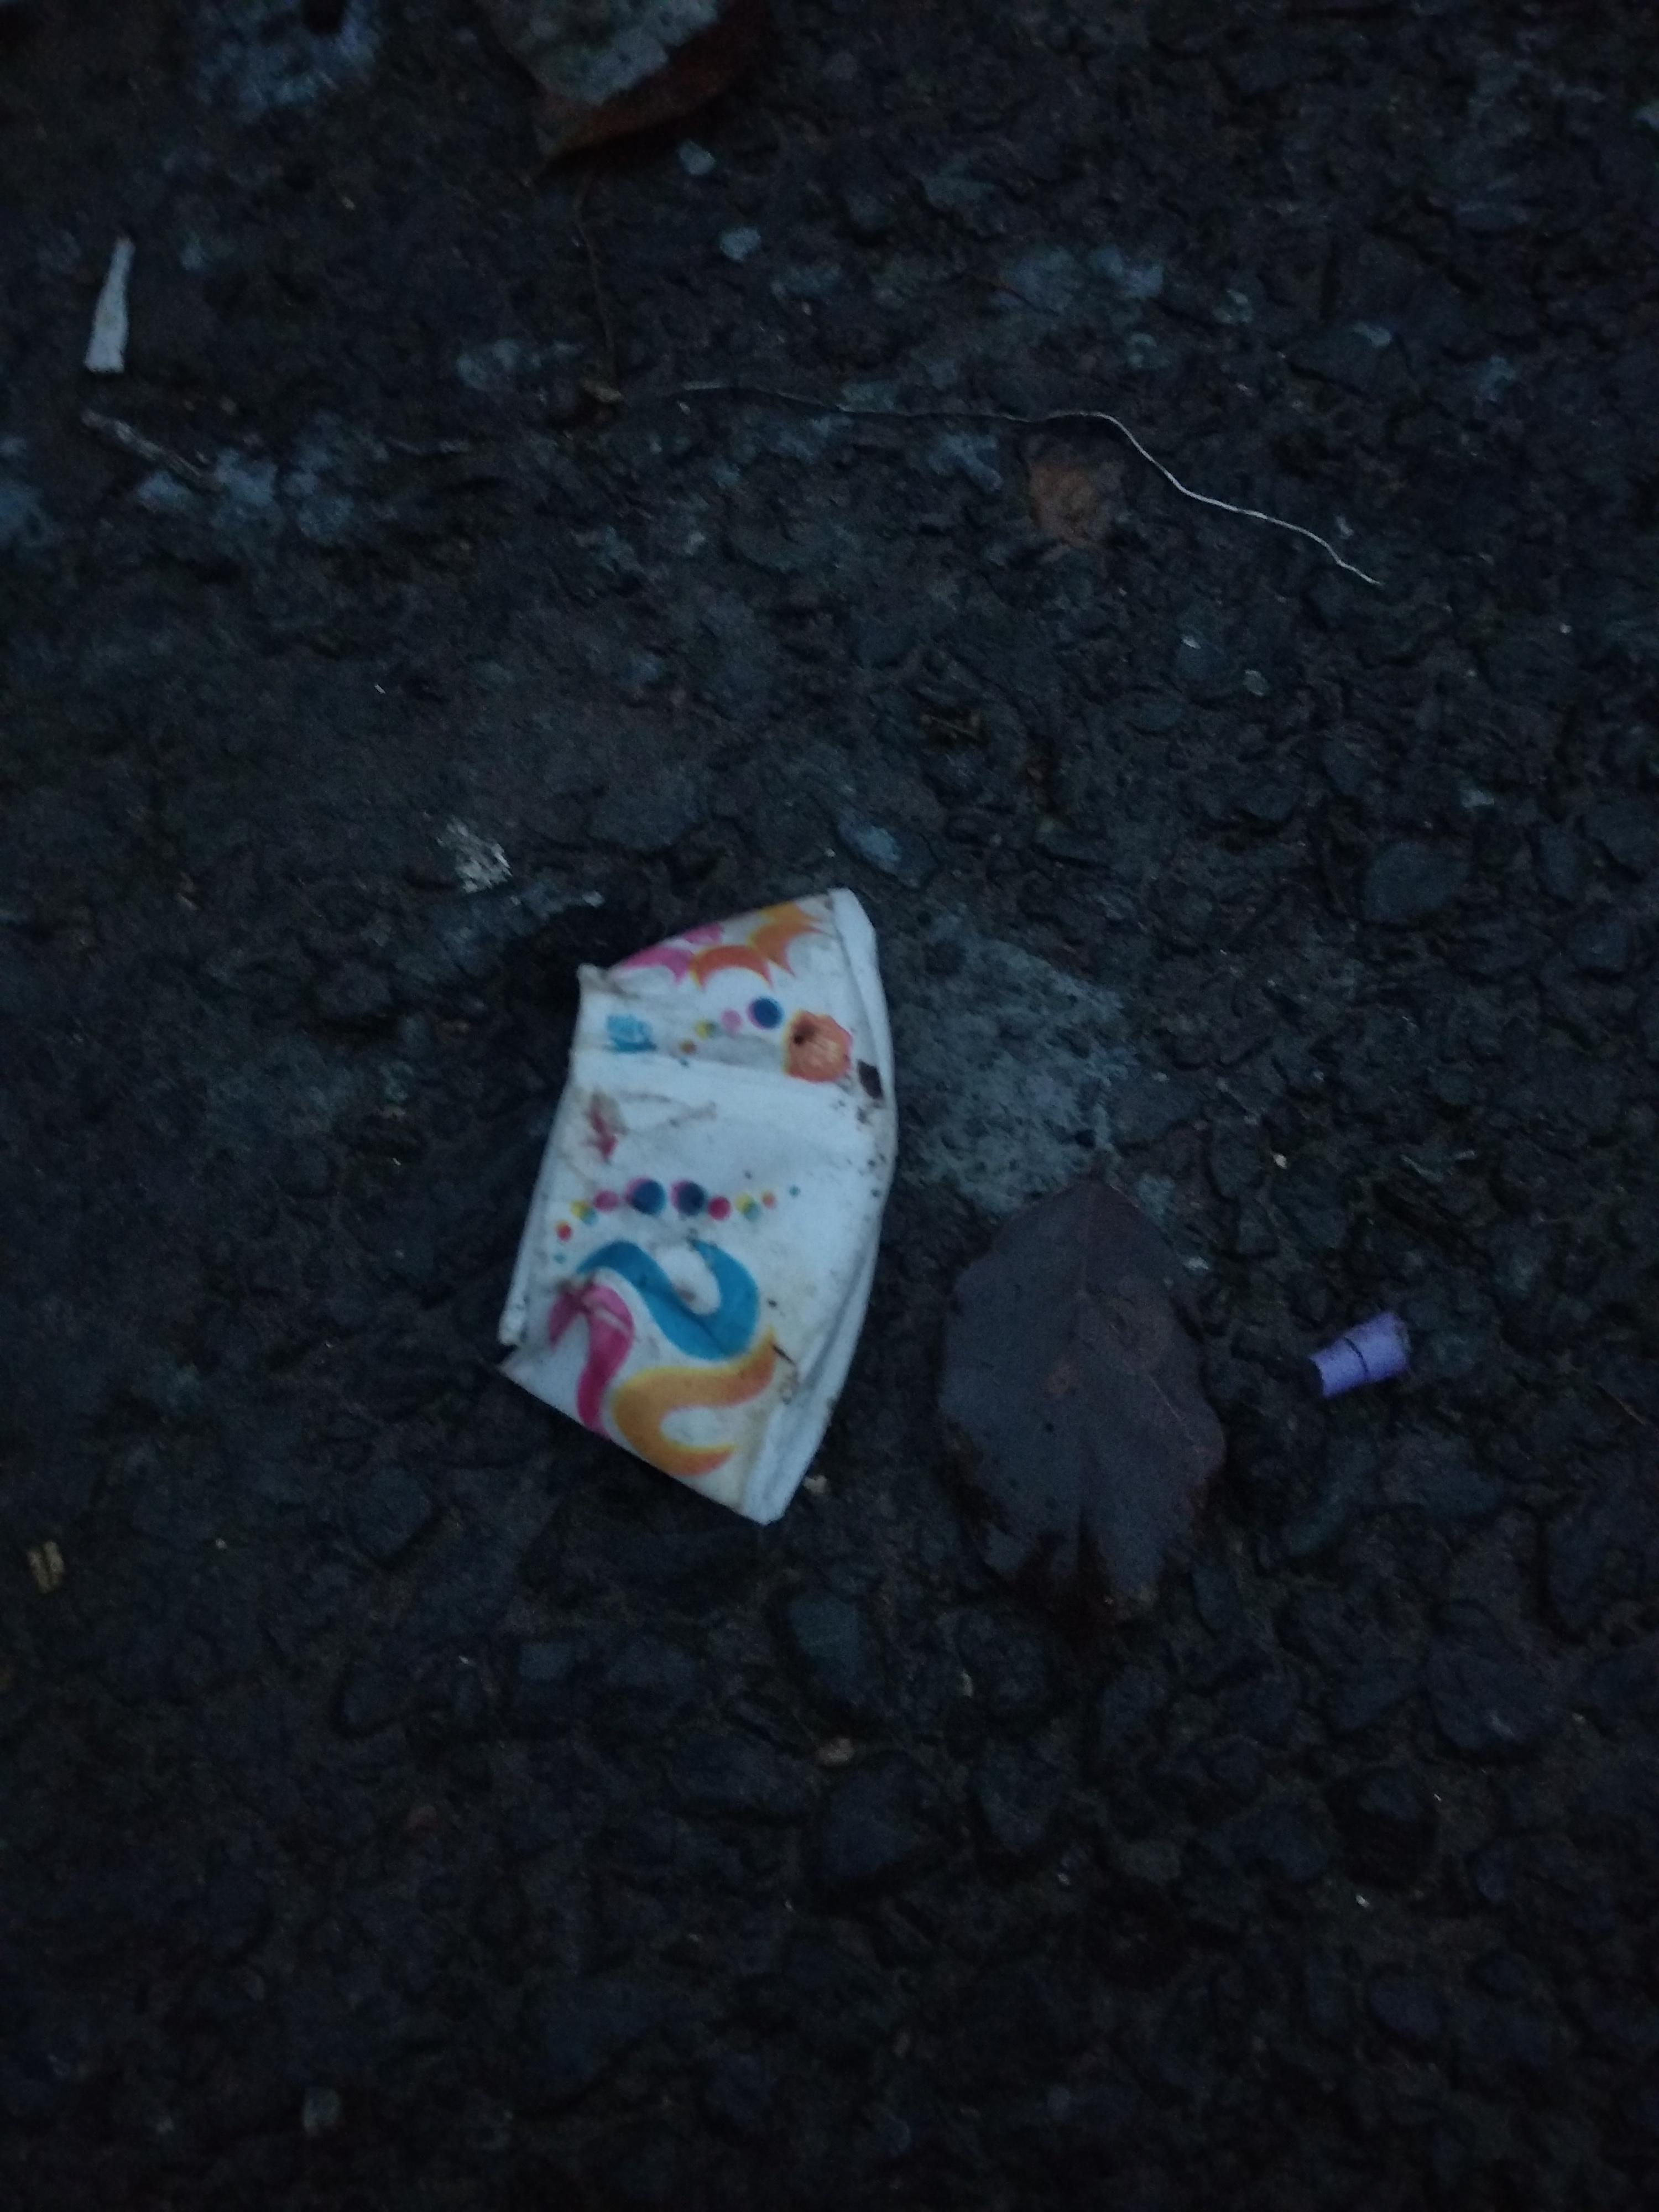organic: (467, 873, 927, 1540)
